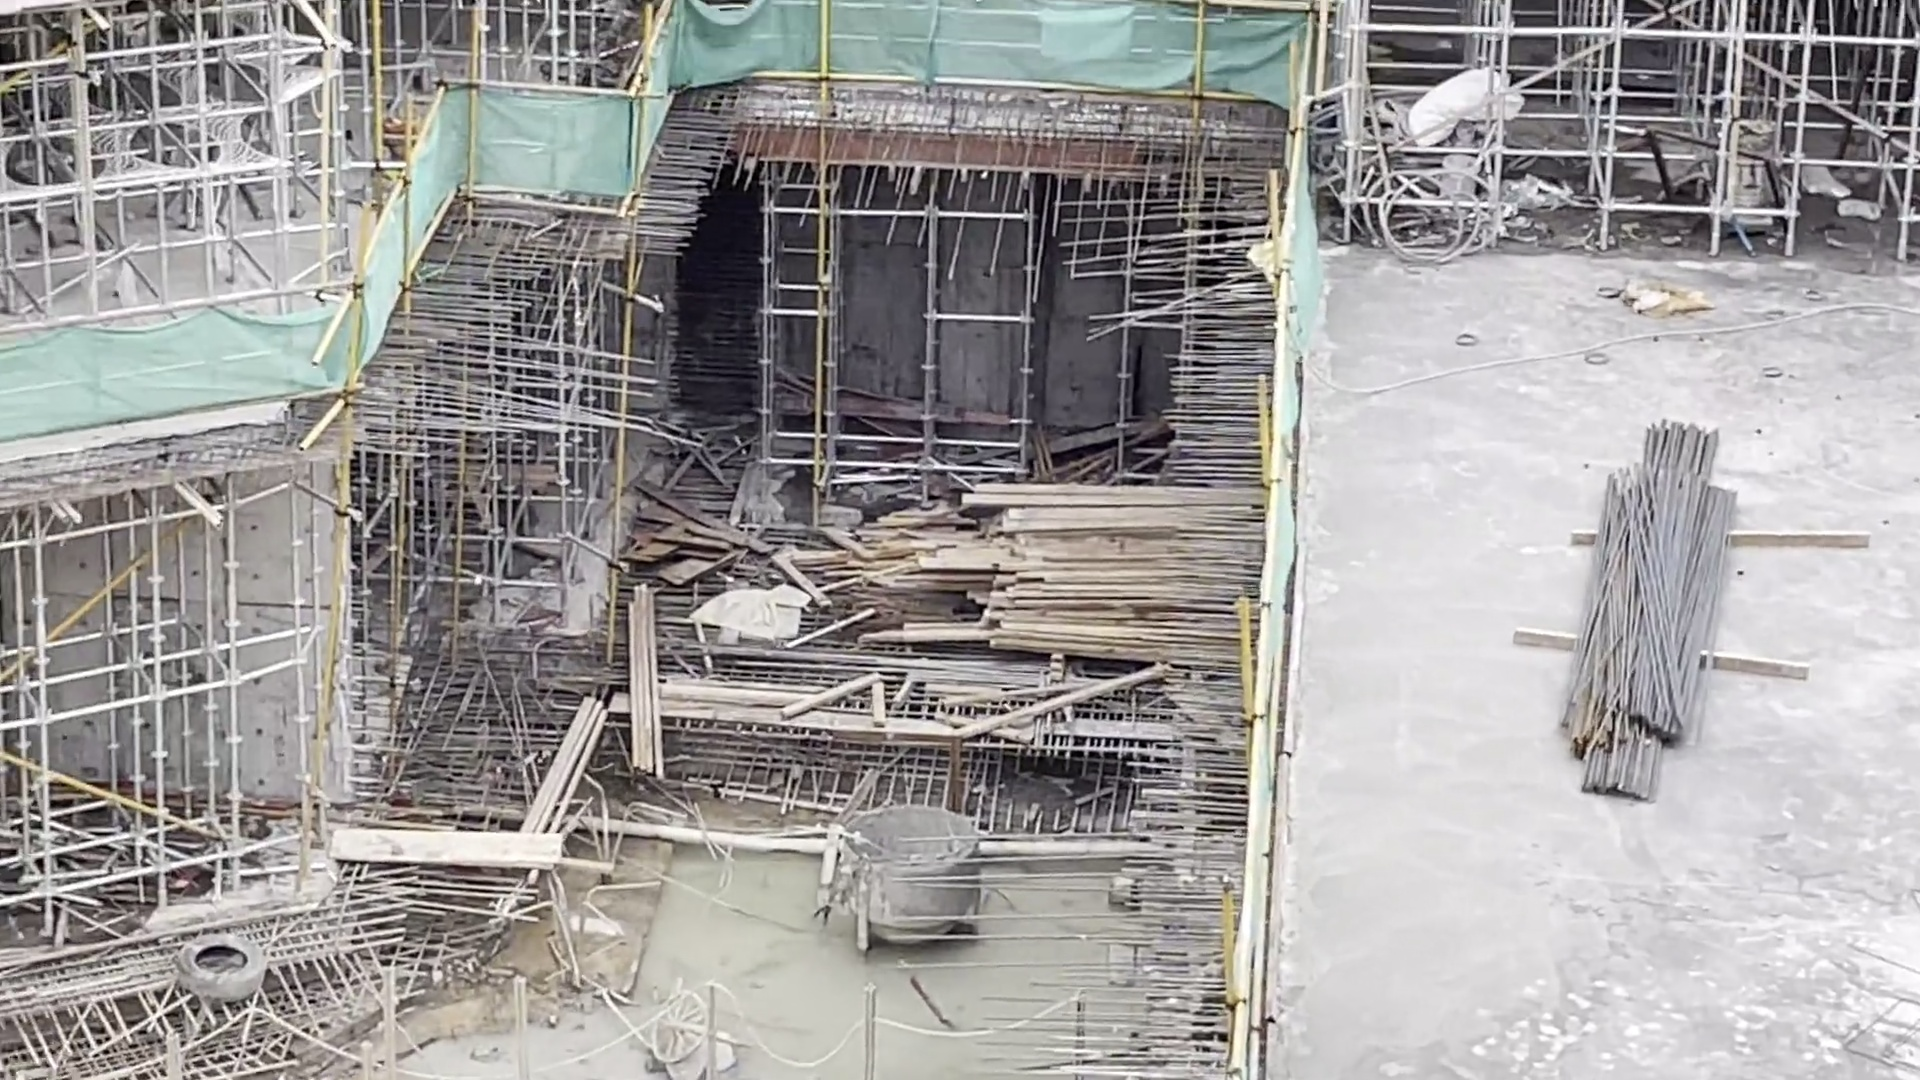rebar: (1577, 409, 1741, 818)
wood: (953, 473, 1255, 658)
